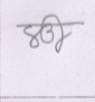i_matra: (48, 14, 69, 53)
